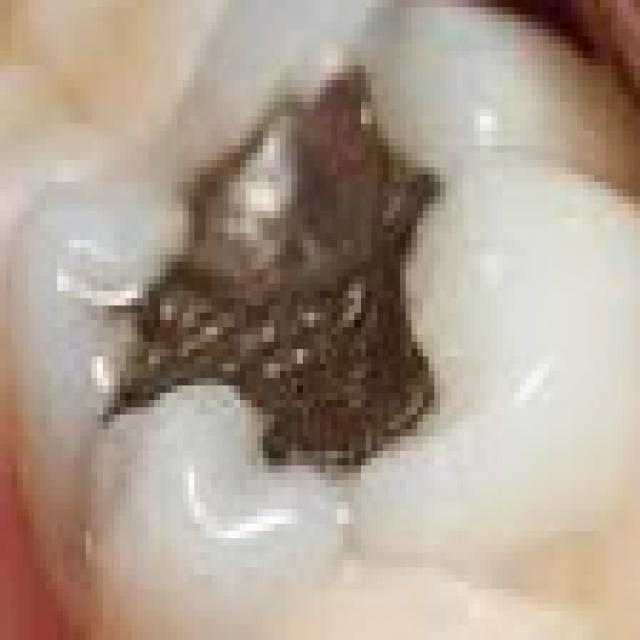Carrier: (251, 66, 444, 491), (102, 141, 254, 431)
